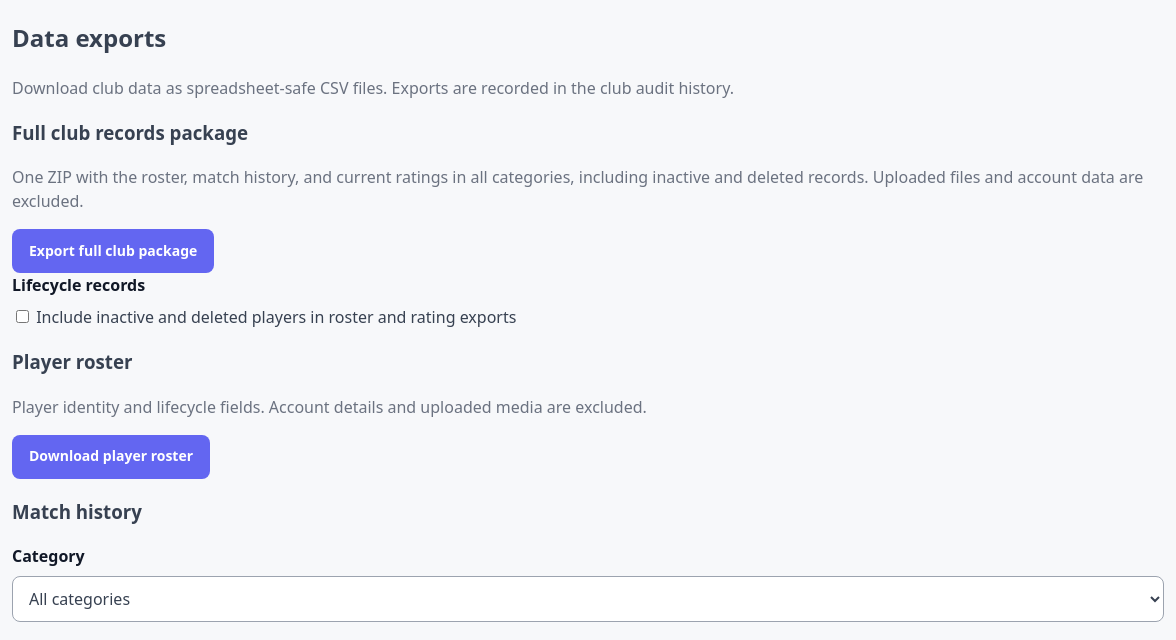
Scenario: DataExportPanel › downloads a complete records package in one action
Click the button "Export full club package".
click(113, 251)  # box [12, 229, 214, 273]
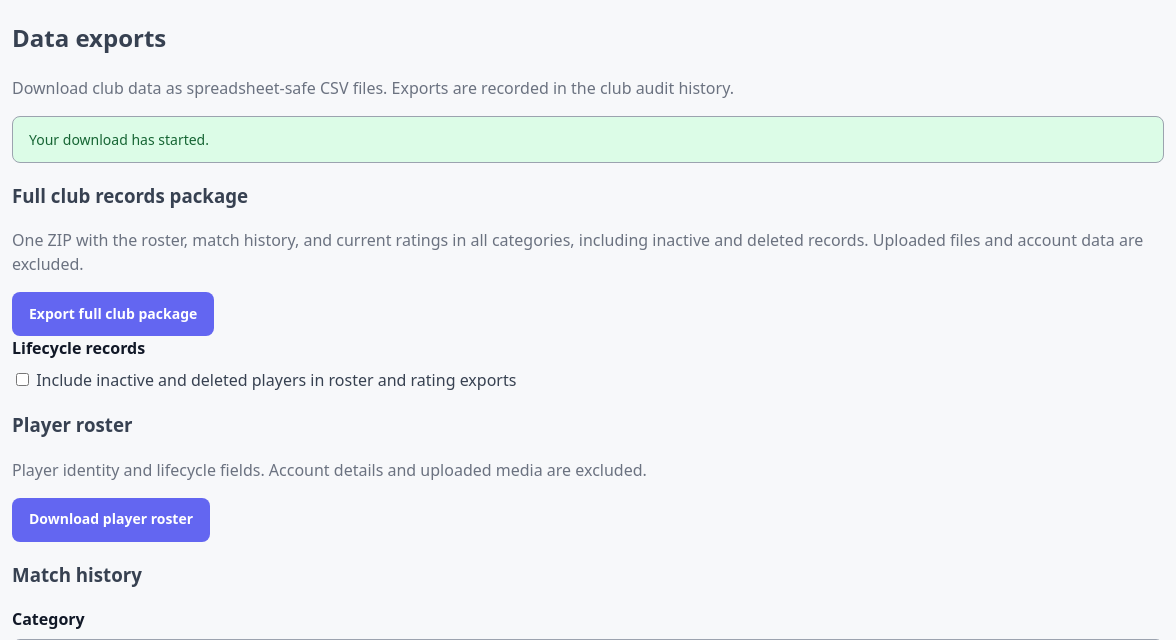
Expected: the text "Your download has started." is shown, [12, 116, 1164, 163]
